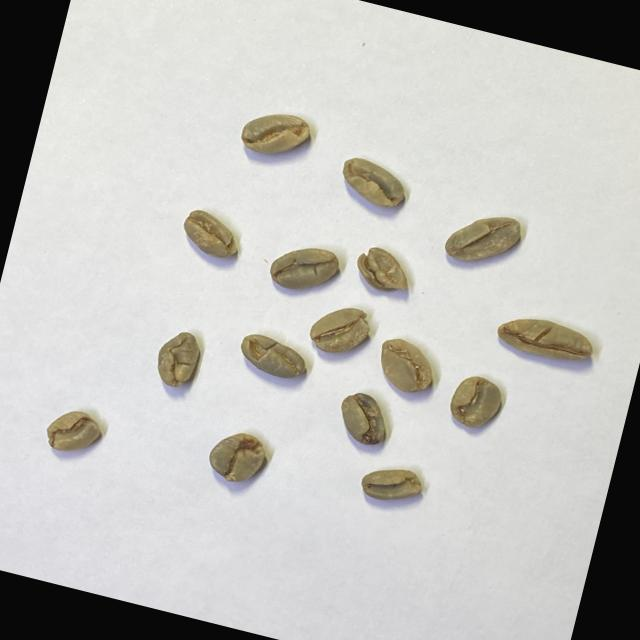bad: (492, 308, 598, 370), (440, 202, 524, 275), (266, 237, 342, 300), (236, 102, 313, 164), (304, 298, 376, 362), (334, 153, 412, 212), (372, 333, 441, 398), (204, 424, 272, 489), (234, 328, 312, 384), (444, 369, 507, 434), (332, 388, 396, 450), (176, 205, 245, 262), (40, 402, 106, 461), (349, 240, 416, 298), (356, 458, 427, 510), (150, 325, 204, 392)
